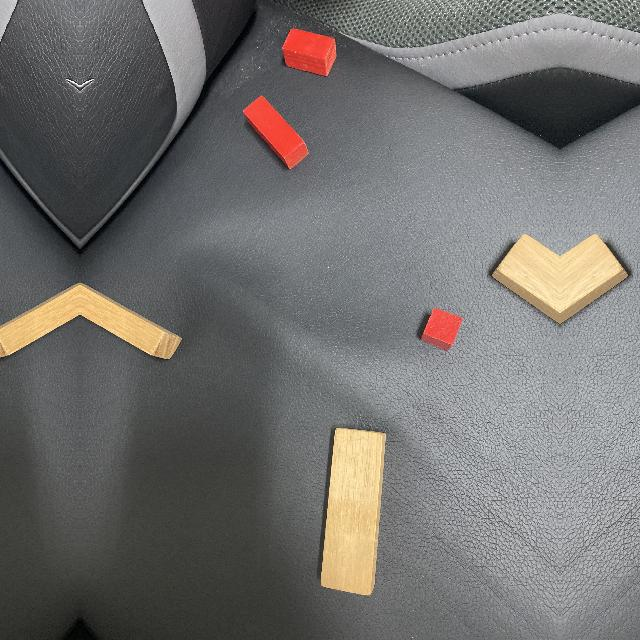jenga: (319, 427, 387, 599), (80, 285, 181, 361), (490, 234, 560, 325), (560, 234, 630, 325), (0, 285, 80, 360)
red block: (243, 96, 309, 170), (282, 29, 337, 77)
red cube: (420, 308, 463, 351)
